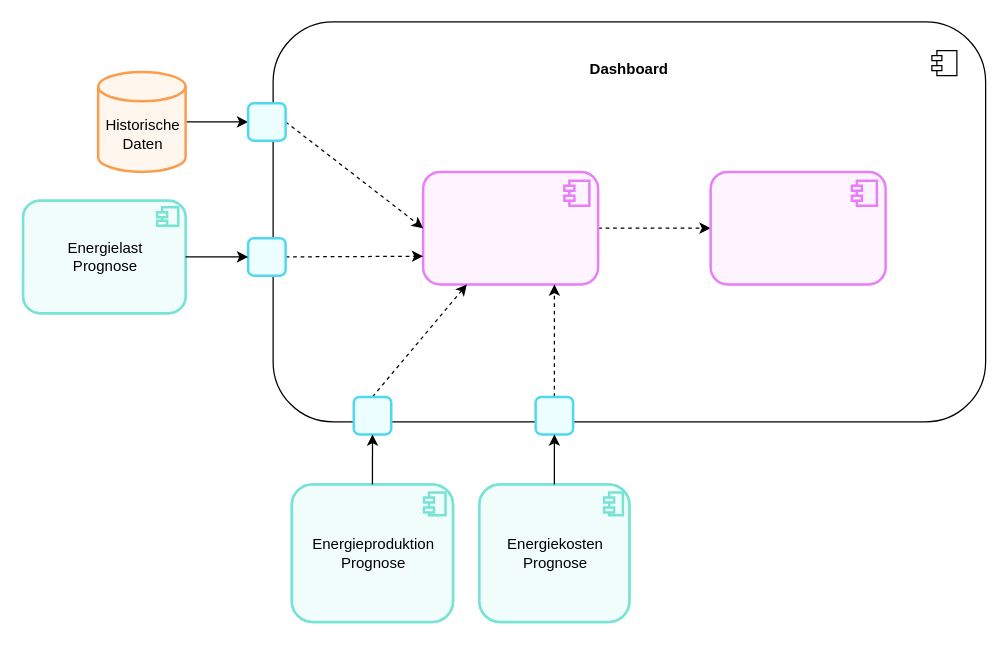
This 1008x645 diagram has some shape labels left out. Here are the shapes that lost their labels. From the top down, the centre of each, then its label:
point 510,227: Visualisierungsmodul
point 797,227: Benutzeroberfläche
